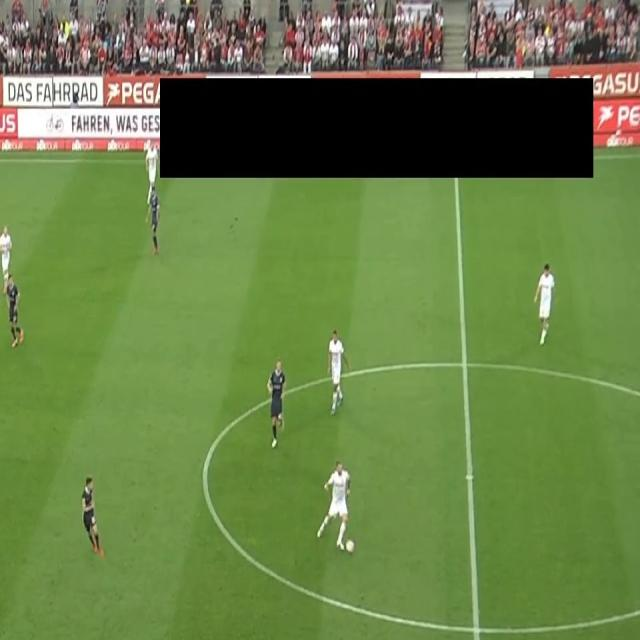ball: (346, 538, 356, 556)
